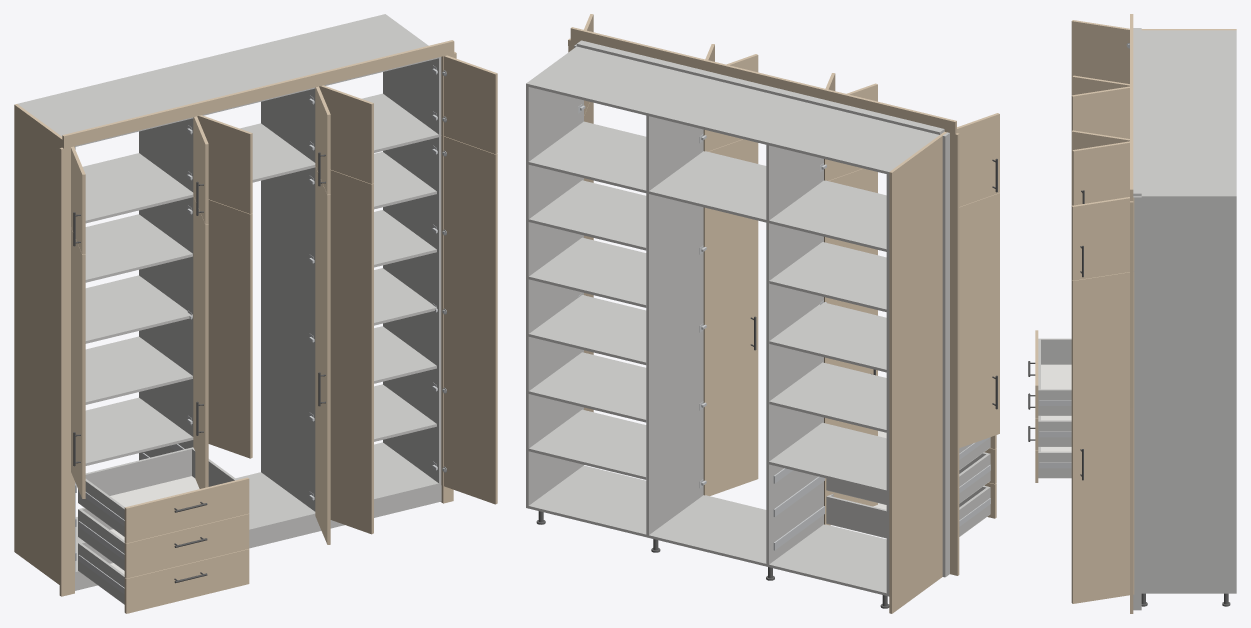
Rendered from wardrobe_builtin_open.glb.
3 views of the same model, side by side, from view 1: azimuth 30°, elevation 25°; view 2: azimuth 150°, elevation 25°; view 3: azimuth 270°, elevation 25° (orthographic). The views are drawn at different scales.
Parts seen in each view (by area): view 1: 51:side_panel.left, 50:sections[2].doors.door[2], 9:partition[1], 3:body.top, 48:sections[1].doors.door[2], 2:body.side.right, 46:sections[0].doors.door[2], 6:mezzanine.shelf, 7:partition[0], 56:builtin.filler.top, 49:sections[2].doors.door[1], 52:builtin.filler.left (+30 smaller); view 2: 51:side_panel.left, 3:body.top, 9:partition[1], 49:sections[2].doors.door[1], 4:body.bottom, 6:mezzanine.shelf, 2:body.side.right, 7:partition[0], 45:sections[0].doors.door[1], 35:sections[2].fill[0].shelf[5], 32:sections[2].fill[0].shelf[2], 34:sections[2].fill[0].shelf[4] (+21 smaller); view 3: 2:body.side.right, 50:sections[2].doors.door[2], 3:body.top, 41:mezzanine.sections[2].doors.door[2], 55:builtin.strip.right, 36:mezzanine.sections[0].doors.door[1], 39:mezzanine.sections[1].doors.door[2], 37:mezzanine.sections[0].doors.door[2], 54:builtin.filler.right, 57:builtin.strip.top, 21:sections[0].fill[0].drawer[3].side.left, 25:sections[0].fill[0].drawer[3].bottom (+7 smaller).
Boxes of the visible parts, x1,y1,x2,y2 form: 51:side_panel.left: [14, 104, 74, 593]; 50:sections[2].doors.door[2]: [441, 135, 497, 504]; 9:partition[1]: [261, 167, 315, 511]; 3:body.top: [20, 14, 438, 146]; 48:sections[1].doors.door[2]: [330, 170, 373, 534]; 2:body.side.right: [383, 14, 441, 485]; 46:sections[0].doors.door[2]: [208, 199, 252, 458]; 6:mezzanine.shelf: [82, 93, 438, 223]; 7:partition[0]: [139, 197, 193, 460]; 56:builtin.filler.top: [62, 40, 454, 148]; 49:sections[2].doors.door[1]: [315, 166, 330, 544]; 52:builtin.filler.left: [59, 147, 71, 596]; 51:side_panel.left: [889, 131, 946, 613]; 3:body.top: [528, 47, 936, 173]; 9:partition[1]: [646, 193, 703, 535]; 49:sections[2].doors.door[1]: [703, 139, 758, 495]; 4:body.bottom: [528, 465, 886, 595]; 6:mezzanine.shelf: [528, 121, 886, 251]; 2:body.side.right: [526, 46, 583, 508]; 7:partition[0]: [766, 222, 823, 564]; 45:sections[0].doors.door[1]: [959, 193, 999, 447]; 35:sections[2].fill[0].shelf[5]: [528, 180, 646, 250]; 32:sections[2].fill[0].shelf[2]: [528, 352, 646, 422]; 34:sections[2].fill[0].shelf[4]: [528, 237, 646, 307]; 2:body.side.right: [1141, 195, 1236, 593]; 50:sections[2].doors.door[2]: [1071, 271, 1134, 603]; 3:body.top: [1141, 31, 1236, 194]; 41:mezzanine.sections[2].doors.door[2]: [1071, 197, 1134, 280]; 55:builtin.strip.right: [1133, 196, 1141, 610]; 36:mezzanine.sections[0].doors.door[1]: [1071, 20, 1129, 94]; 39:mezzanine.sections[1].doors.door[2]: [1072, 141, 1129, 205]; 37:mezzanine.sections[0].doors.door[2]: [1071, 86, 1129, 138]; 54:builtin.filler.right: [1130, 201, 1133, 613]; 57:builtin.strip.top: [1133, 28, 1141, 196]; 21:sections[0].fill[0].drawer[3].side.left: [1038, 338, 1071, 364]; 25:sections[0].fill[0].drawer[3].bottom: [1038, 364, 1071, 415].
Bounding box in the file's own units: 2.61 × 2.71 × 1.21.
